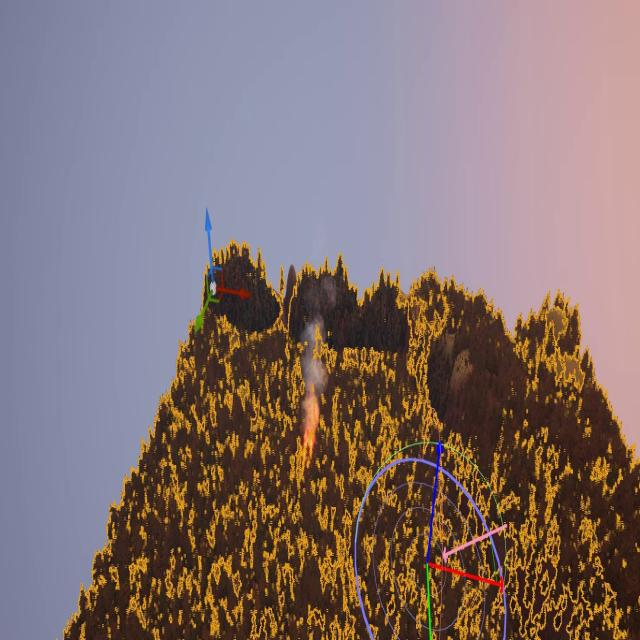fire: (303, 409, 318, 459)
smoke: (300, 315, 330, 412)
